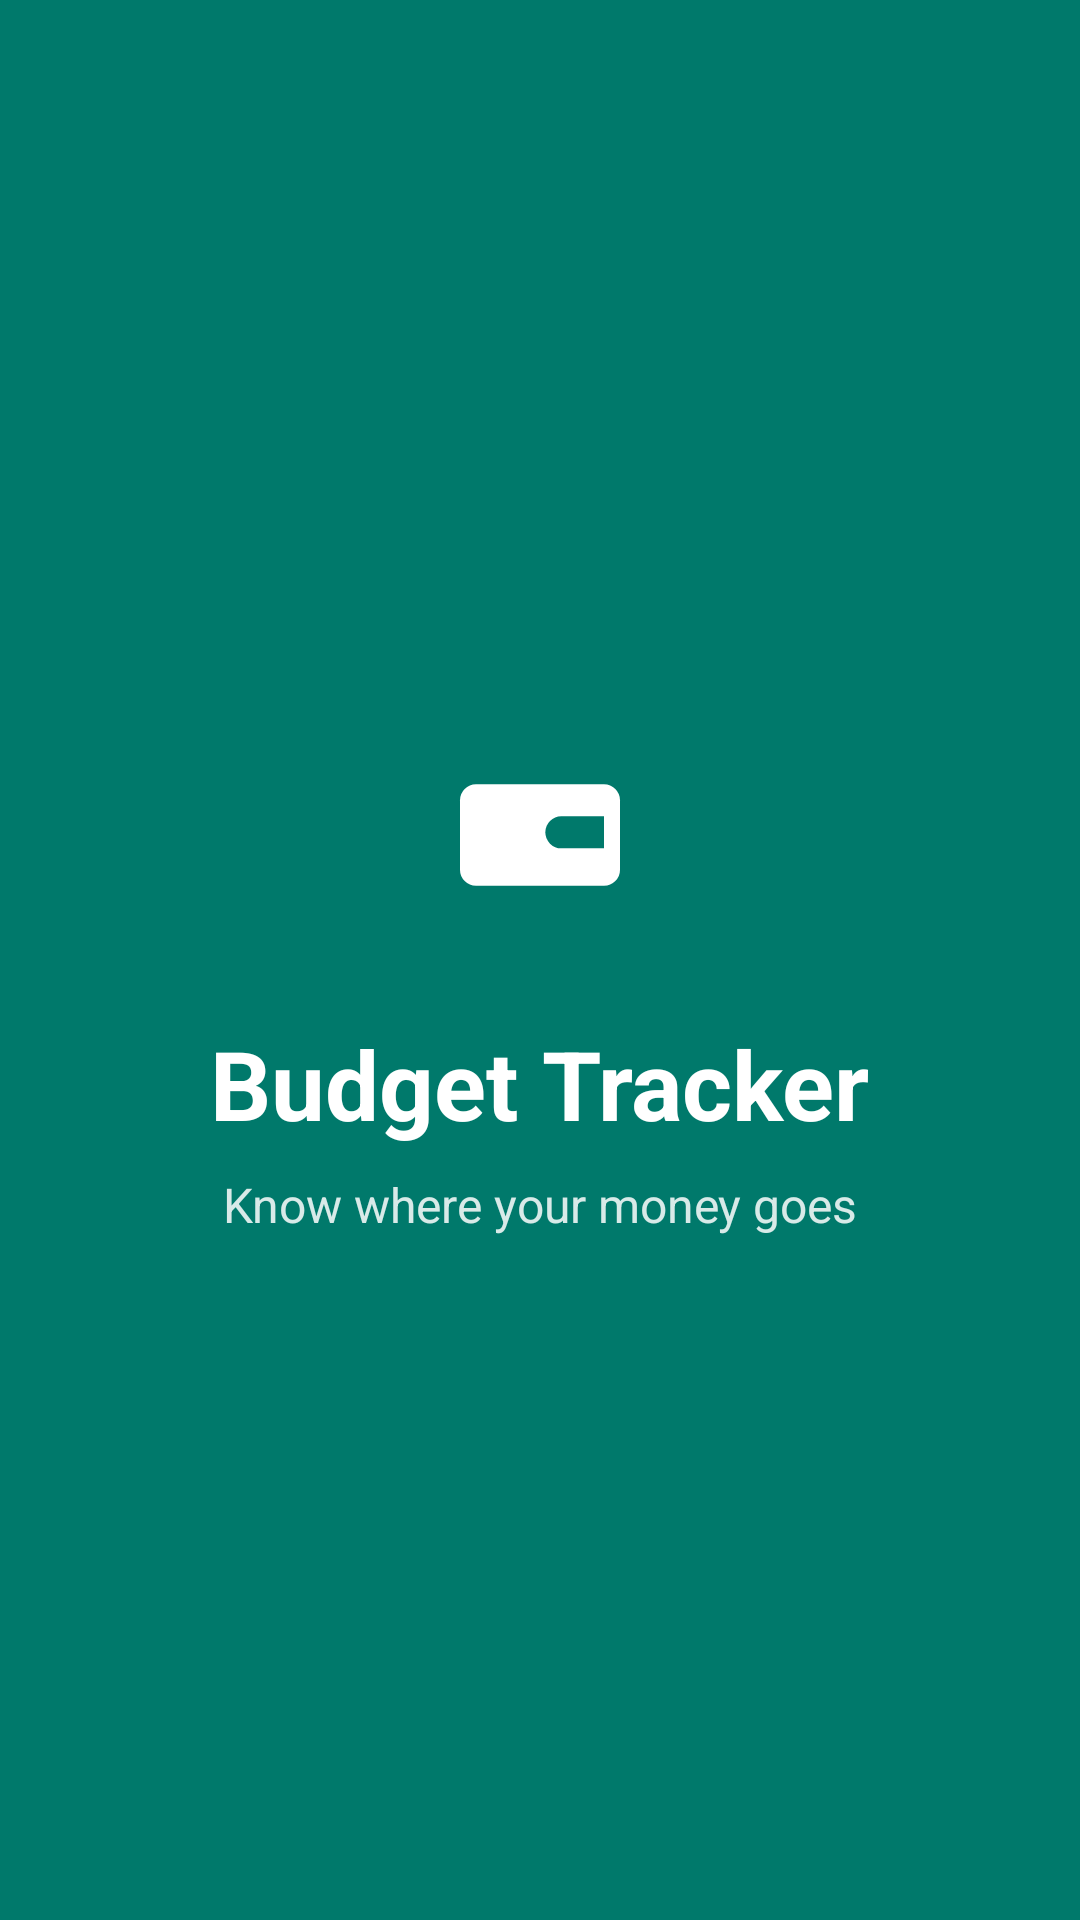

Icon bounding boxes for this 1080w x 1920h phone screenshot, format rect(x1, y1, x2, y2):
wallet: rect(460, 784, 620, 886)
